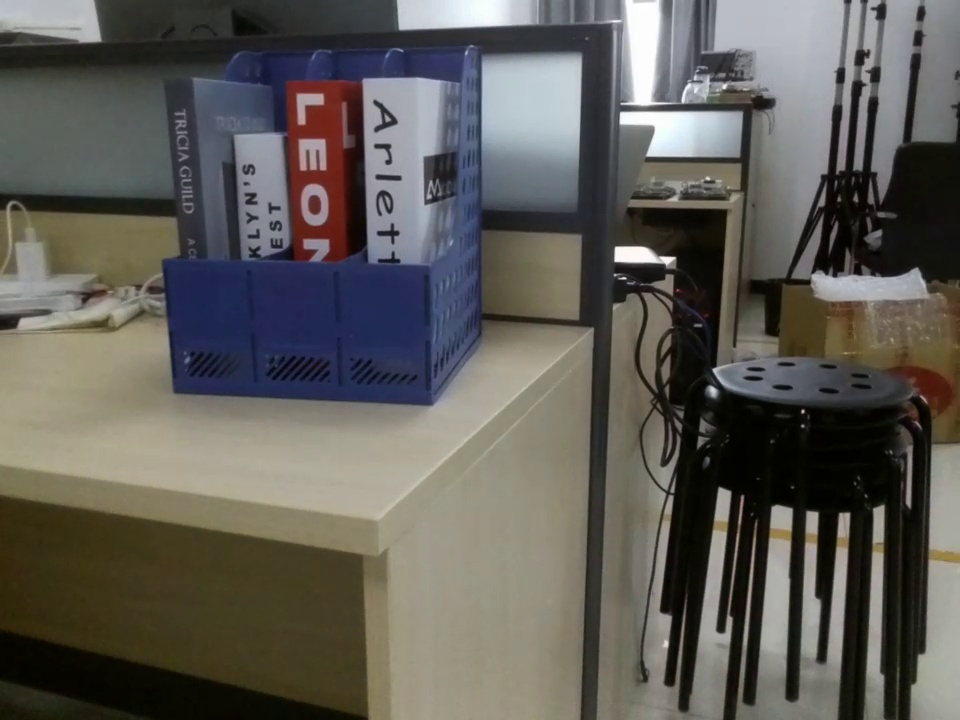files: (161, 47, 484, 408)
